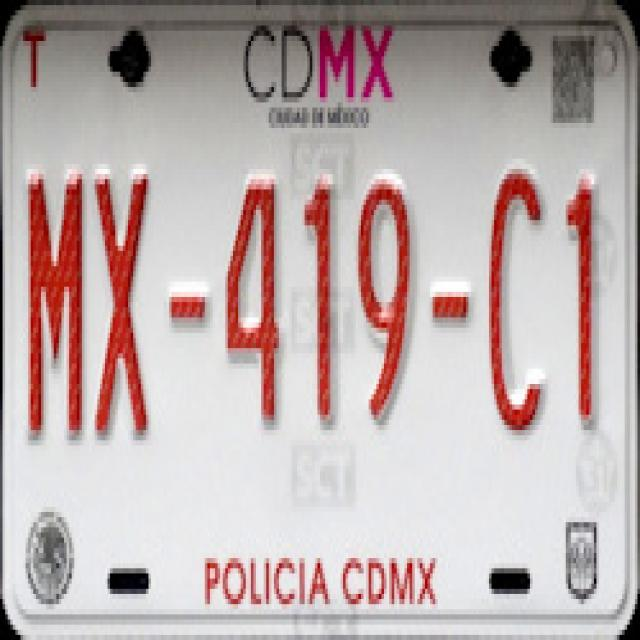placa: (3, 144, 633, 462)
